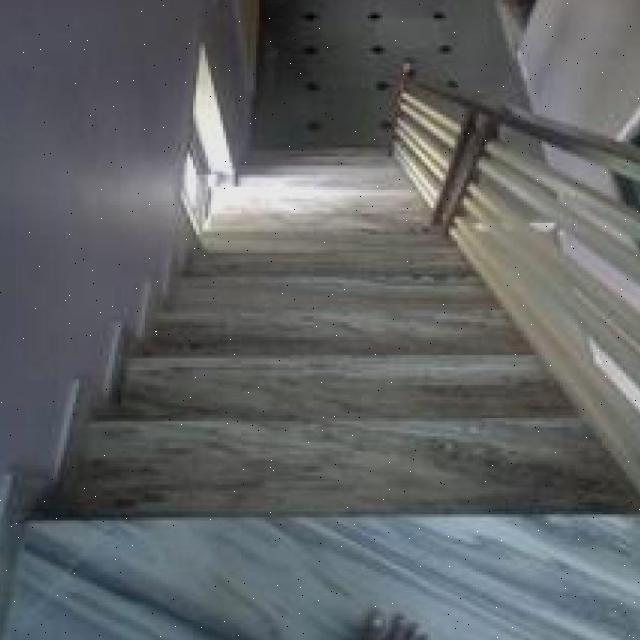stair: (43, 301, 585, 557)
